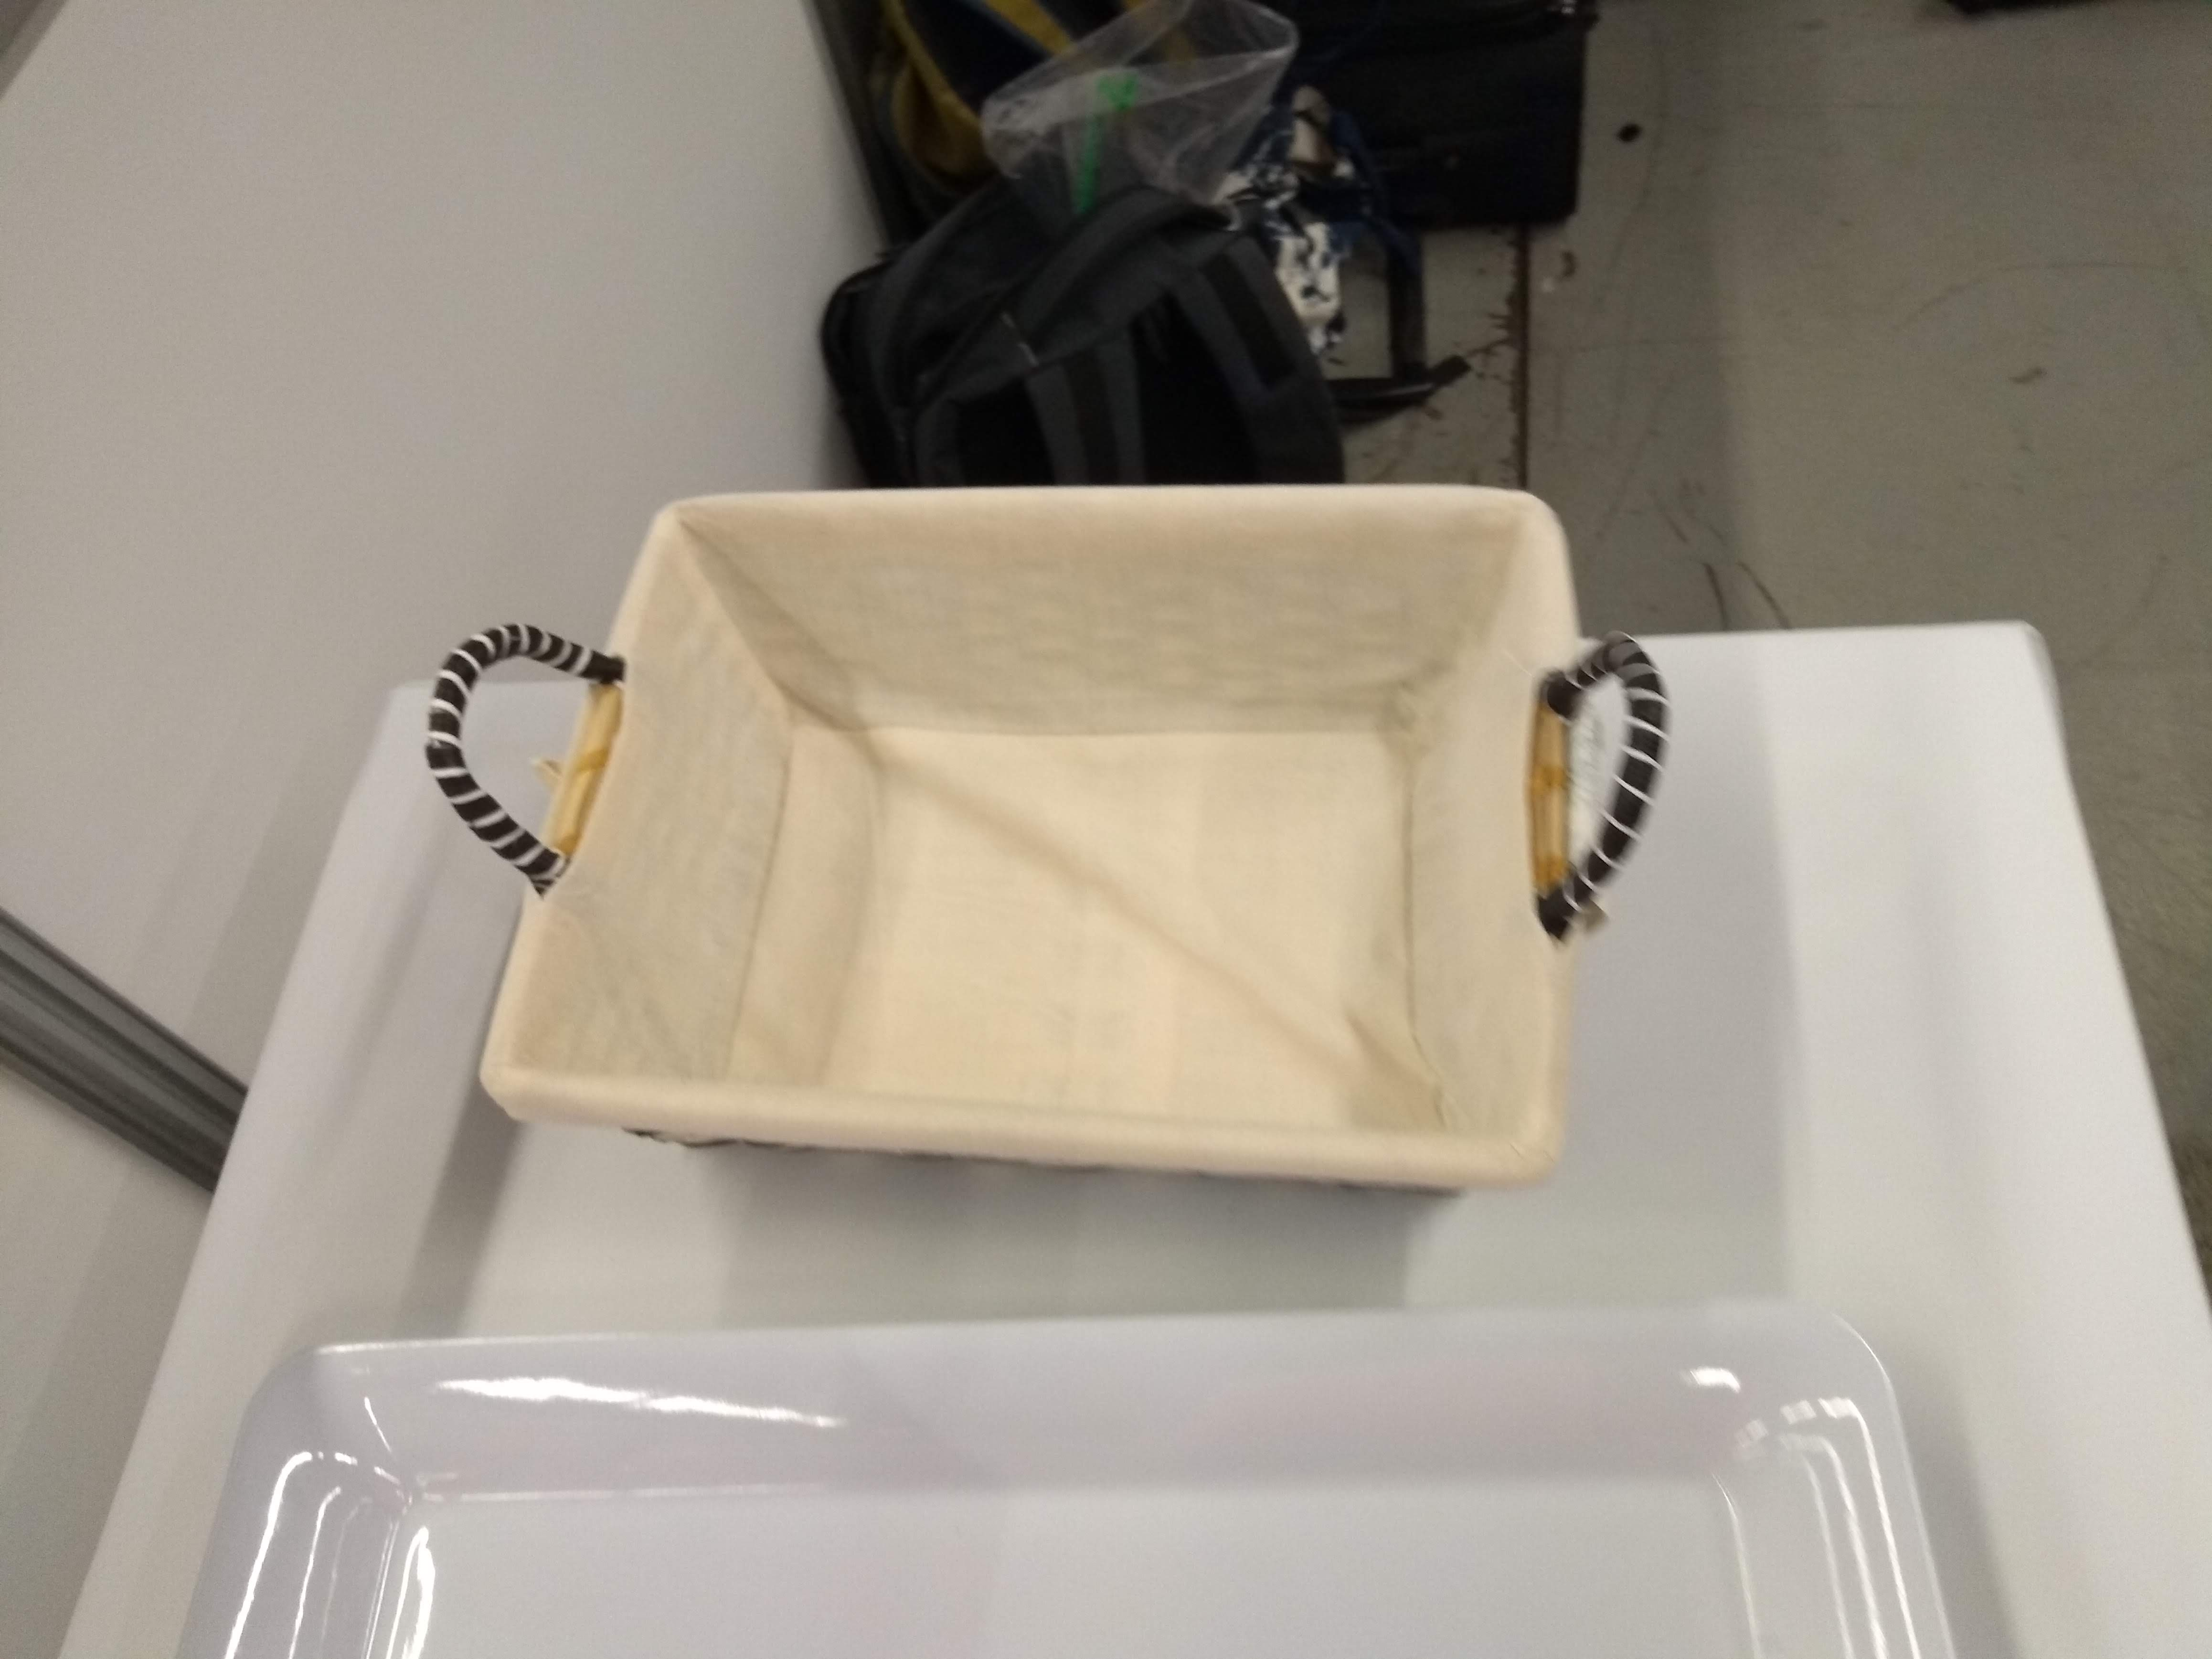basket: (441, 483, 1679, 1223)
tray: (162, 1307, 1973, 1659)
